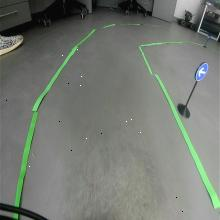left: (194, 61, 208, 82)
